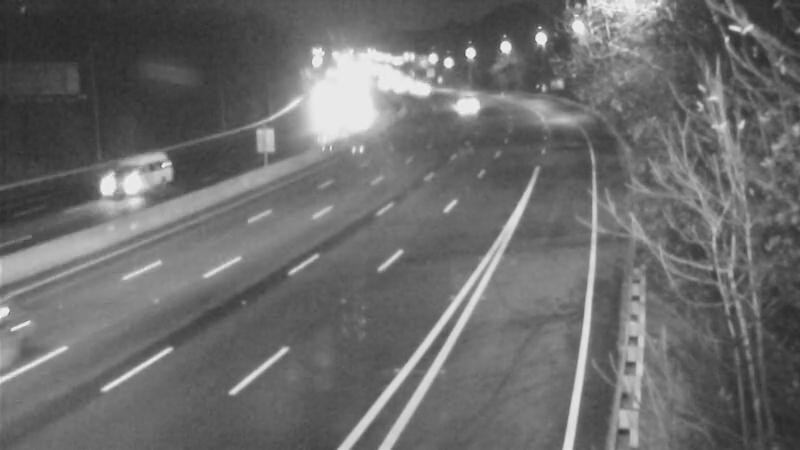vehicle: (73, 146, 153, 226), (436, 77, 486, 127)
